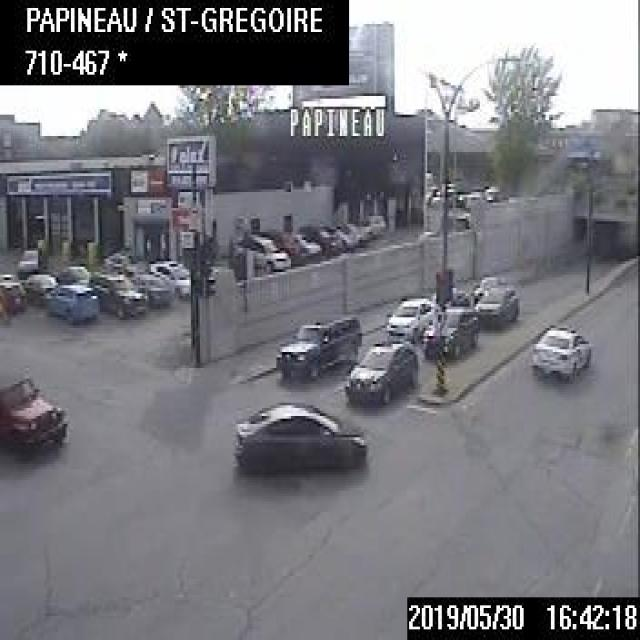vehicle: (227, 394, 364, 474), (0, 365, 65, 453), (273, 316, 360, 377), (345, 337, 416, 402), (529, 323, 591, 376), (421, 306, 479, 360), (91, 271, 145, 318), (44, 280, 99, 325), (384, 294, 437, 336), (233, 231, 289, 269), (475, 282, 520, 329), (149, 258, 189, 298), (126, 271, 170, 305), (296, 221, 338, 256), (288, 231, 319, 261), (472, 274, 504, 301), (0, 279, 24, 313), (26, 274, 54, 303), (16, 248, 45, 272), (54, 264, 89, 282)
